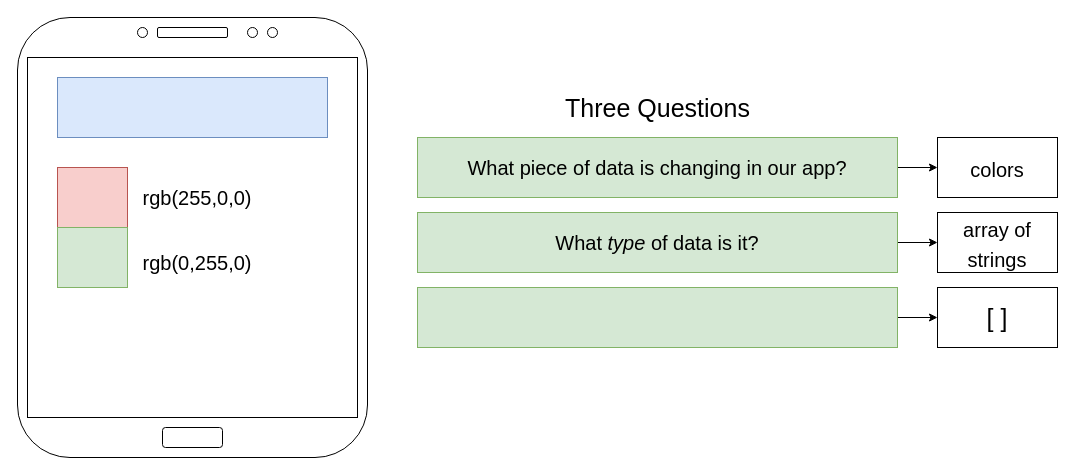
Image size: 1075x475. Some labels were removed from this diagram. The shapes that lost their labels are listed below. From the top down, each one's centre as x and y in pixels, then its label:
At (192,107): "Add Color".
At (657,317): "What is the data's starting(default) value".
